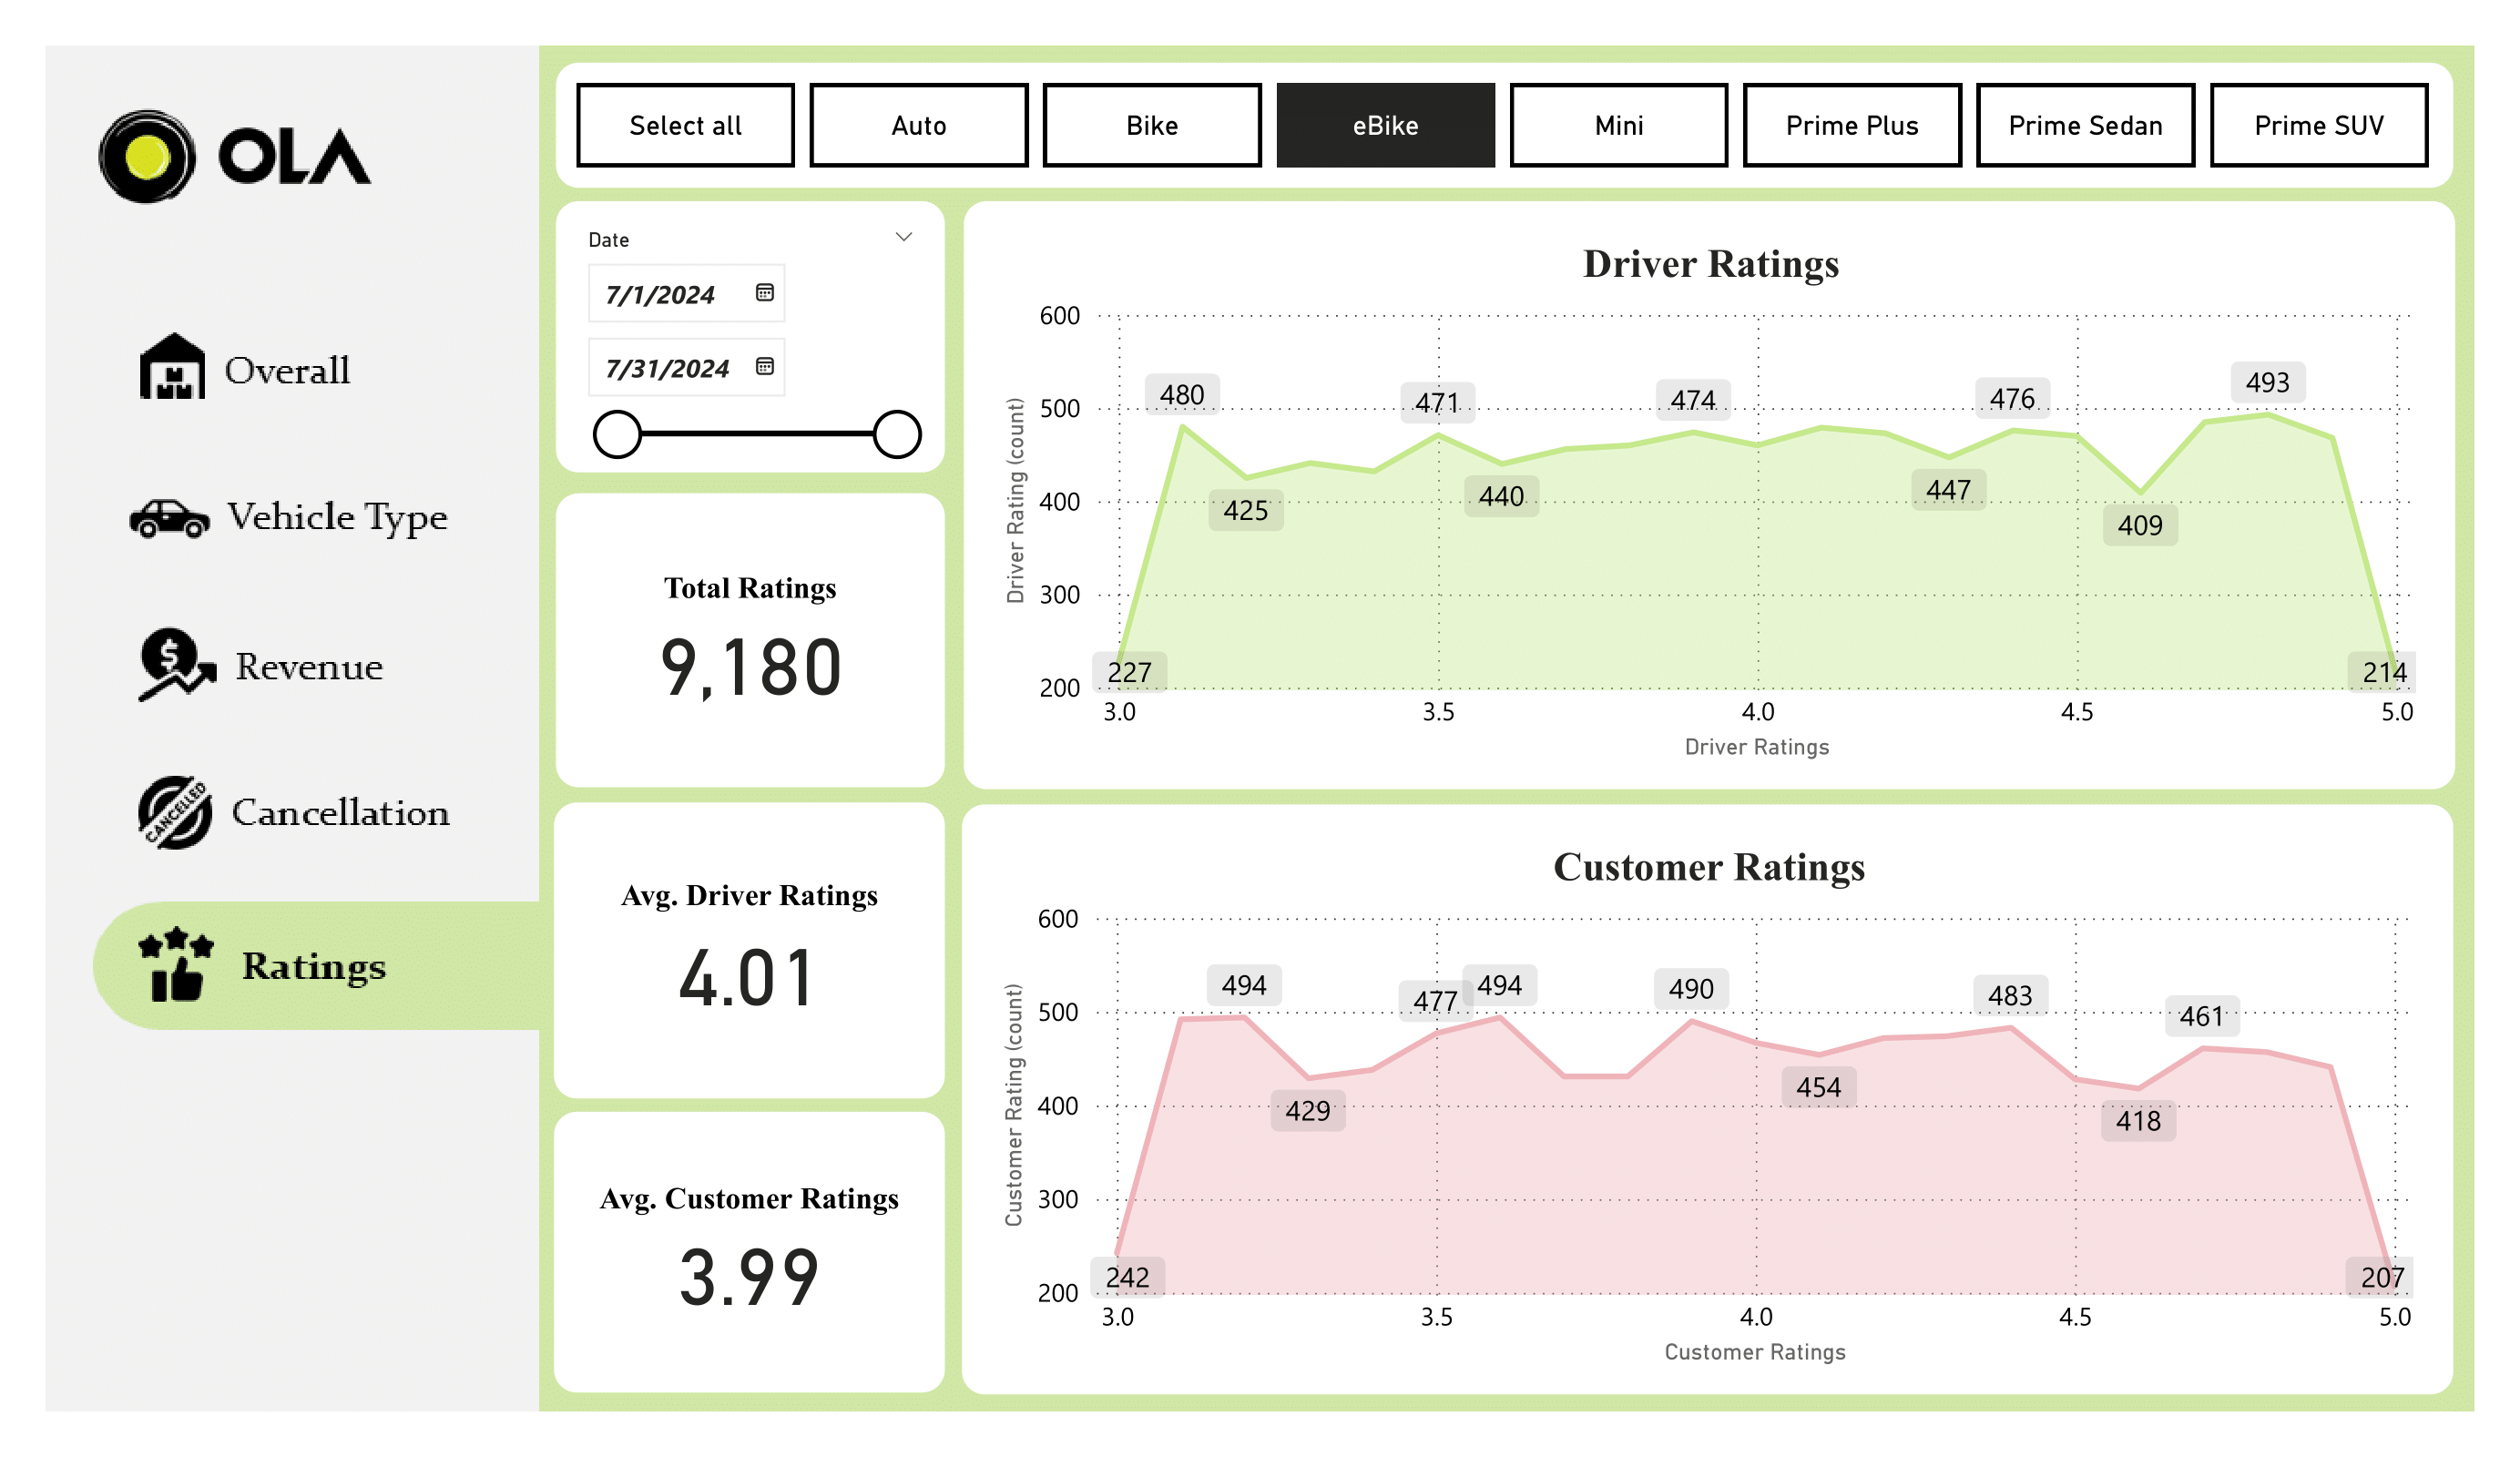

What the dashboard file says about the page in this screenshot:
{"tool":"powerbi","page":{"name":"Ratings","canvas":[1280,720],"ordinal":4},"visuals":[{"type":"actionButton","box":[25,212.5,237.5,72.5],"z":0},{"type":"actionButton","box":[22.5,290,237.5,72.5],"z":1000},{"type":"actionButton","box":[23.8,370,237.5,72.5],"z":2000},{"type":"actionButton","box":[23.8,132.5,237.5,72.5],"z":3000},{"type":"slicer","title":"Date","fields":{"Values":["Bookings-100000-Rows.Date"]},"box":[269.4,81.7,204.7,143.2],"z":5000},{"type":"cardVisual","fields":{"Data":["CountNonNull(Bookings-100000-Rows.Driver_Ratings)"]},"box":[268.8,236.2,205,155],"z":6000},{"type":"cardVisual","fields":{"Data":["Avg(Bookings-100000-Rows.Driver_Ratings)"]},"box":[268.3,398.8,205.8,155.9],"z":7000},{"type":"lineChart","title":"Driver Ratings","fields":{"Category":["Bookings-100000-Rows.Driver_Ratings"],"Y":["CountNonNull(Bookings-100000-Rows.Driver_Ratings)"]},"box":[483.7,81.7,786,310],"z":8000},{"type":"lineChart","title":"Customer Ratings","fields":{"Category":["Bookings-100000-Rows.Customer_Rating"],"Y":["CountNonNull(Bookings-100000-Rows.Customer_Rating)"]},"box":[482.5,400,786.2,311.2],"z":9000},{"type":"cardVisual","fields":{"Data":["Avg(Bookings-100000-Rows.Customer_Rating)"]},"box":[268.3,562.1,205.8,147.4],"z":10000},{"type":"advancedSlicerVisual","fields":{"Values":["Bookings-100000-Rows.Vehicle_Type"]},"box":[268.8,9.1,1000,66.2],"z":10001}]}

Visuals, with their boxes in screenshot pixels (x1, y1, x2, y2):
actionButton: box=[93, 449, 544, 586]
actionButton: box=[88, 596, 539, 733]
actionButton: box=[91, 748, 541, 885]
actionButton: box=[91, 297, 541, 434]
"Date" slicer: box=[556, 200, 945, 473]
cardVisual - CountNonNull(Bookings-100000-Rows.Driver_Ratings): box=[556, 494, 944, 788]
cardVisual - Avg(Bookings-100000-Rows.Driver_Ratings): box=[555, 802, 945, 1098]
"Driver Ratings" lineChart: box=[964, 200, 2455, 789]
"Customer Ratings" lineChart: box=[961, 804, 2453, 1395]
cardVisual - Avg(Bookings-100000-Rows.Customer_Rating): box=[555, 1112, 945, 1391]
advancedSlicerVisual - Bookings-100000-Rows.Vehicle_Type: box=[556, 63, 2454, 188]
